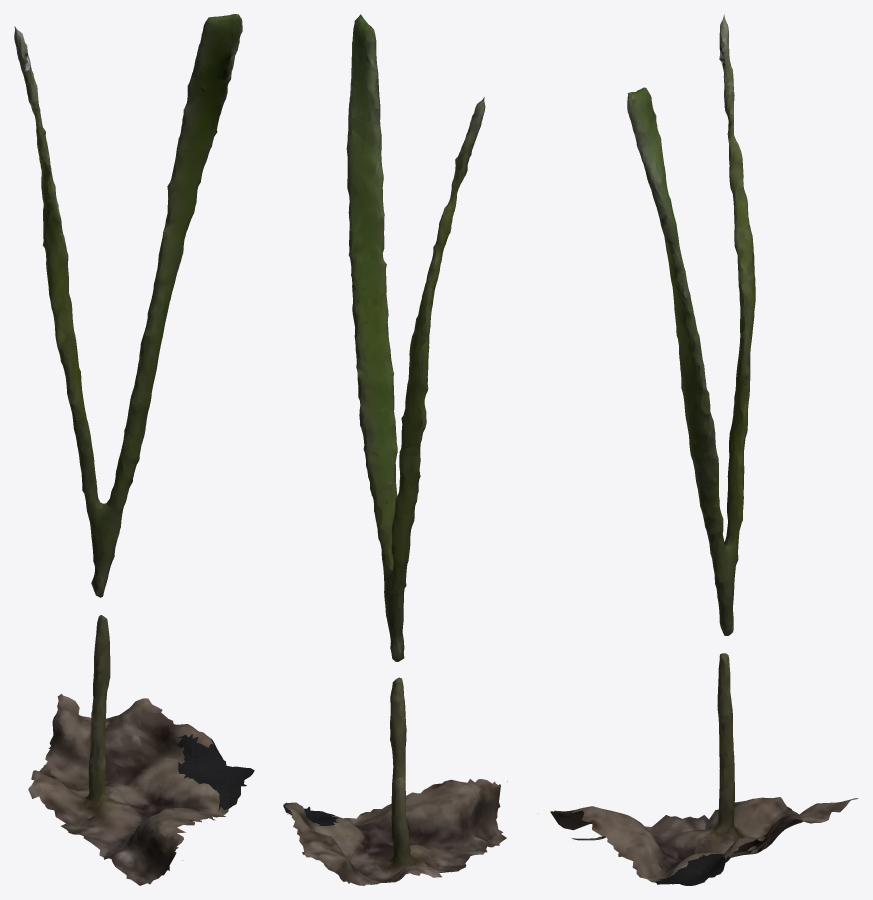
The model's file is Day1.glb.
The picture shows the model from 3 angles, left to right: view 1: azimuth 30°, elevation 25°; view 2: azimuth 150°, elevation 25°; view 3: azimuth 270°, elevation 25°; orthographic projection. The views are drawn at different scales.
Parts seen in each view (by area): view 1: Day1 (1); view 2: Day1 (1); view 3: Day1 (1).
Part boxes in pixels (x1=…): Day1 (1): x1=14, y1=14, x2=254, y2=885; Day1 (1): x1=283, y1=14, x2=507, y2=885; Day1 (1): x1=550, y1=14, x2=858, y2=885.
Size of the model in its own units: 0.1559 by 0.5551 by 0.2015.
Materials: 66 (66 with a texture image).
